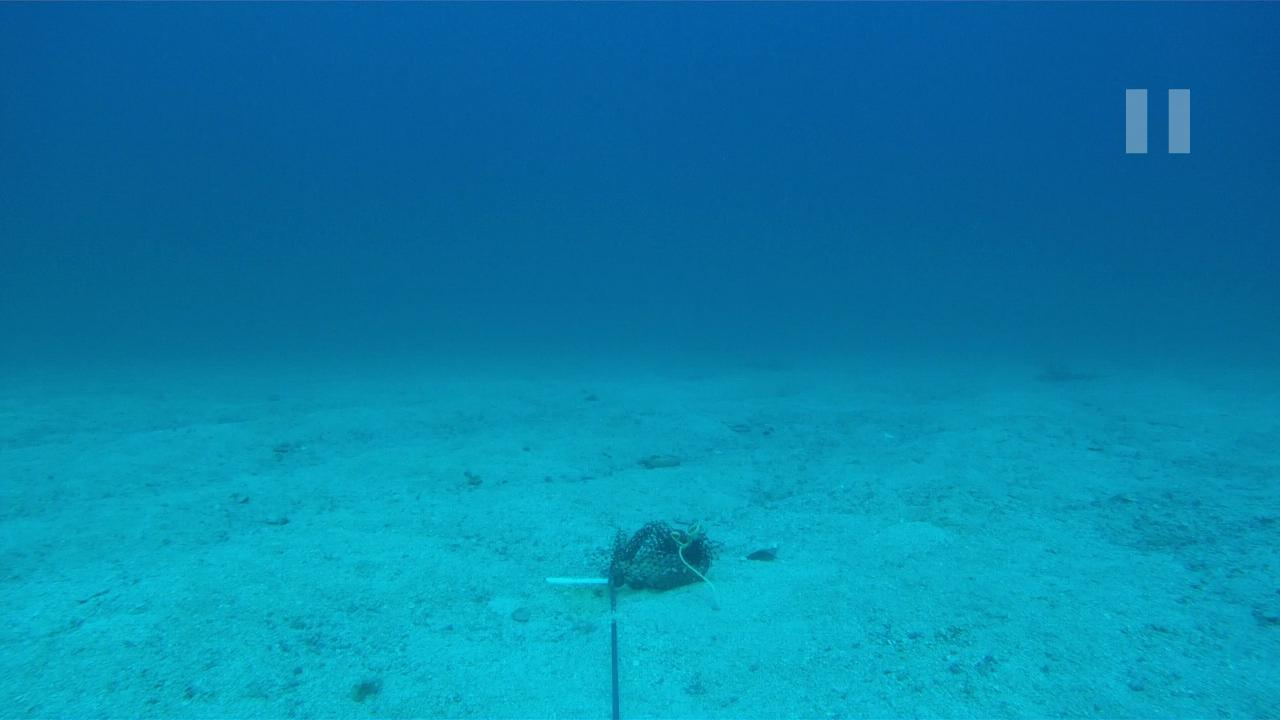bothus: (726, 533, 788, 560)
